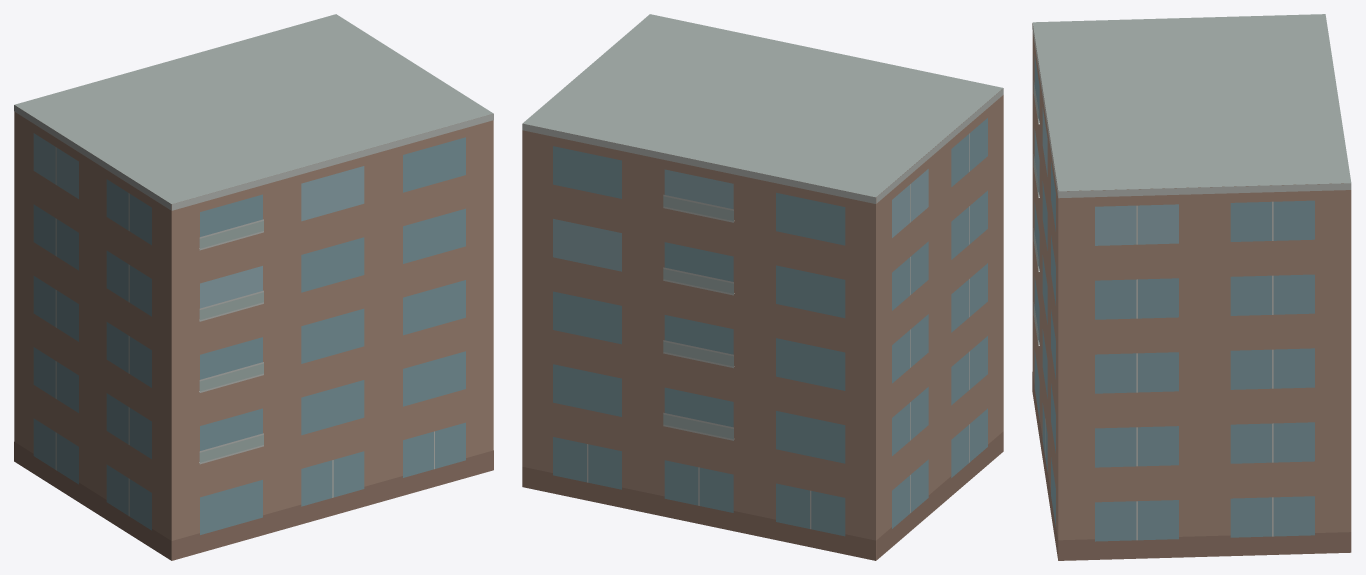
Rendered from survey-upis-33032090.glb.
The picture shows the model from 3 angles, left to right: view 1: azimuth 30°, elevation 25°; view 2: azimuth 150°, elevation 25°; view 3: azimuth 270°, elevation 25°; orthographic projection. The views are drawn at different scales.
Visible parts, largest first — view 1: survey-upis-33032090.tmp; view 2: survey-upis-33032090.tmp; view 3: survey-upis-33032090.tmp.
Part boxes in pixels (bbox=[...]): survey-upis-33032090.tmp: bbox=[14, 14, 493, 560]; survey-upis-33032090.tmp: bbox=[522, 14, 1003, 560]; survey-upis-33032090.tmp: bbox=[1032, 14, 1351, 560].
Bounding box in the file's own units: 13.6 × 13.2 × 10.33.
